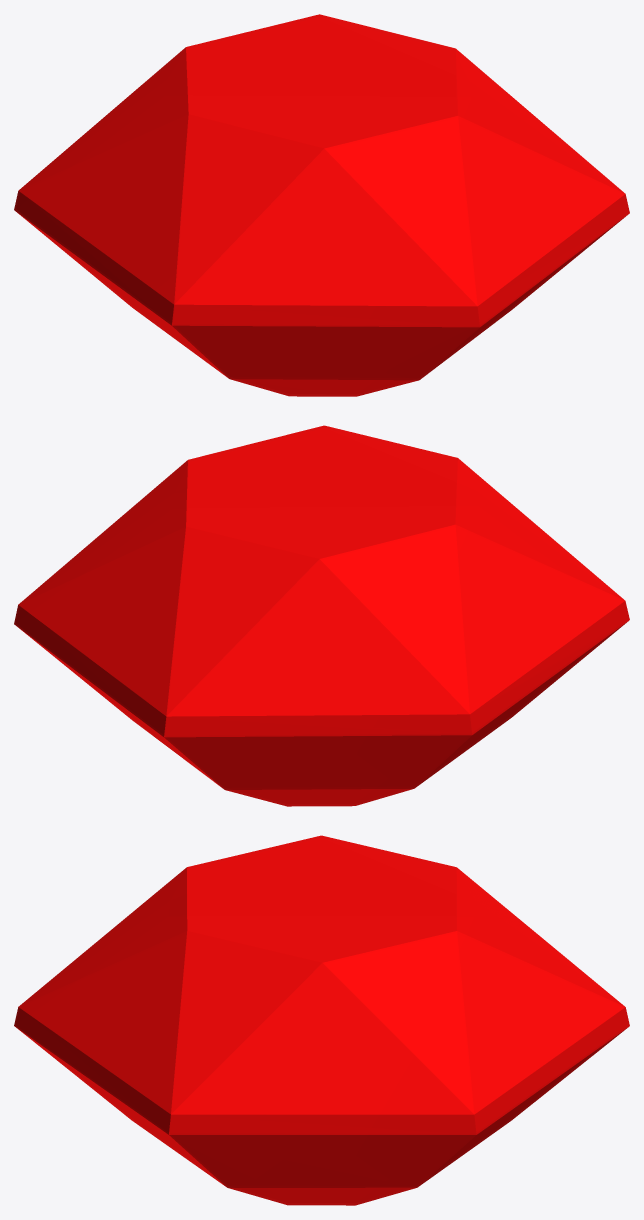
File: Red_Gem.obj
3 renders of one model, top to bottom at view 1: azimuth 30°, elevation 25°; view 2: azimuth 150°, elevation 25°; view 3: azimuth 270°, elevation 25°, orthographic. The views are drawn at different scales.
Parts seen in each view (by area): view 1: Red_Gem; view 2: Red_Gem; view 3: Red_Gem.
Boxes of the visible parts, x1=… form: Red_Gem: x1=14, y1=14, x2=629, y2=396; Red_Gem: x1=14, y1=425, x2=629, y2=806; Red_Gem: x1=14, y1=835, x2=629, y2=1205.
Size of the model in its own units: 11.52 by 6.95 by 13.75.
